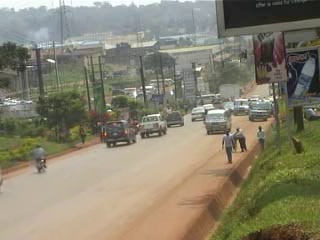Car: (101, 116, 138, 148), (163, 110, 187, 127), (188, 104, 206, 122), (220, 99, 235, 113), (202, 100, 215, 113)
Motorcycle: (31, 145, 47, 174), (203, 110, 208, 124)
